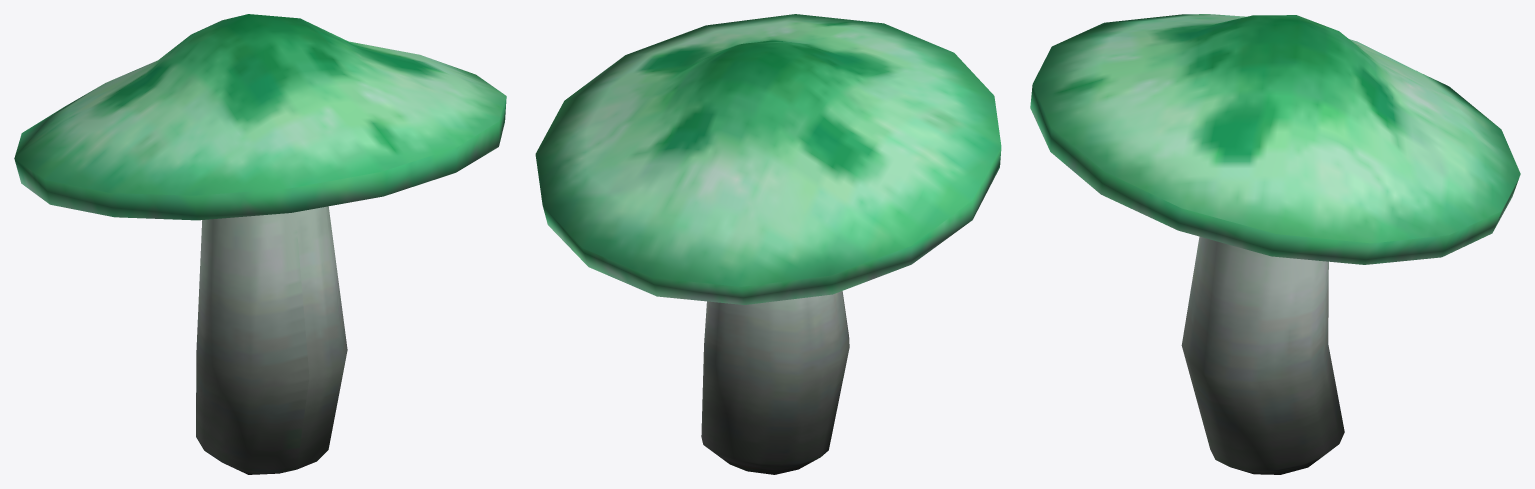
The model's file is INST_TROLLHOLE_SHROOMB4.fbx.
3 views of the same model, side by side, from view 1: azimuth 30°, elevation 25°; view 2: azimuth 150°, elevation 25°; view 3: azimuth 270°, elevation 25° (orthographic). The views are drawn at different scales.
Visible parts, largest first — view 1: INST_TROLLHOLE_SHROOMB4; view 2: INST_TROLLHOLE_SHROOMB4; view 3: INST_TROLLHOLE_SHROOMB4.
Boxes of the visible parts, bbox=[...] form: INST_TROLLHOLE_SHROOMB4: bbox=[14, 14, 506, 474]; INST_TROLLHOLE_SHROOMB4: bbox=[535, 14, 1001, 474]; INST_TROLLHOLE_SHROOMB4: bbox=[1030, 14, 1520, 474].
Size of the model in its own units: 40011 by 39001 by 39395.
1 material, 1 textured.
